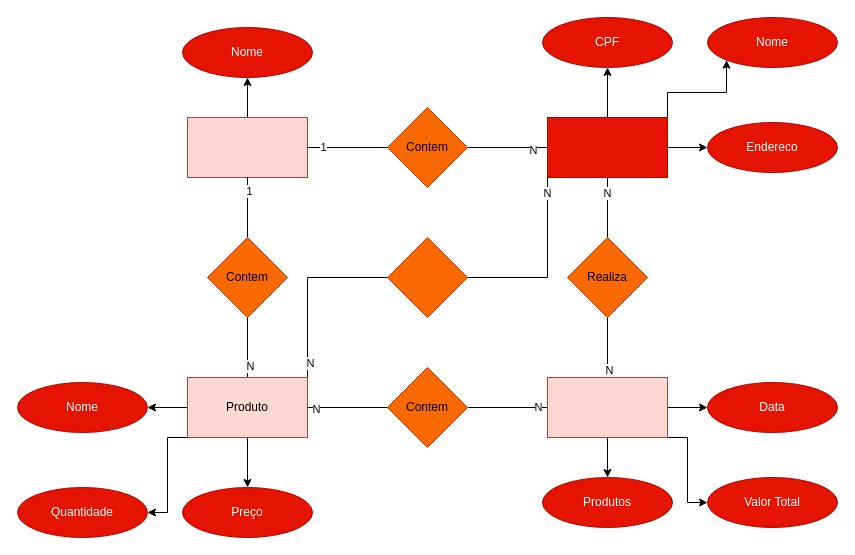
The diagram is 855 pixels wide and 555 high, and some of its shapes have lost their labels. Here are the shapes that lost their labels. From the top down, the centre of each, then its label:
(x=247, y=147): Loja
(x=607, y=147): Cliente
(x=427, y=277): Utiliza
(x=607, y=407): Compra
